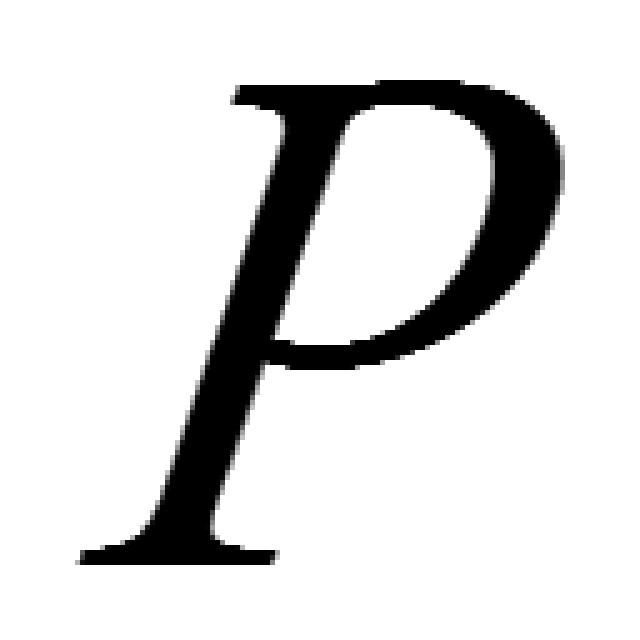P: (80, 80, 565, 570)
